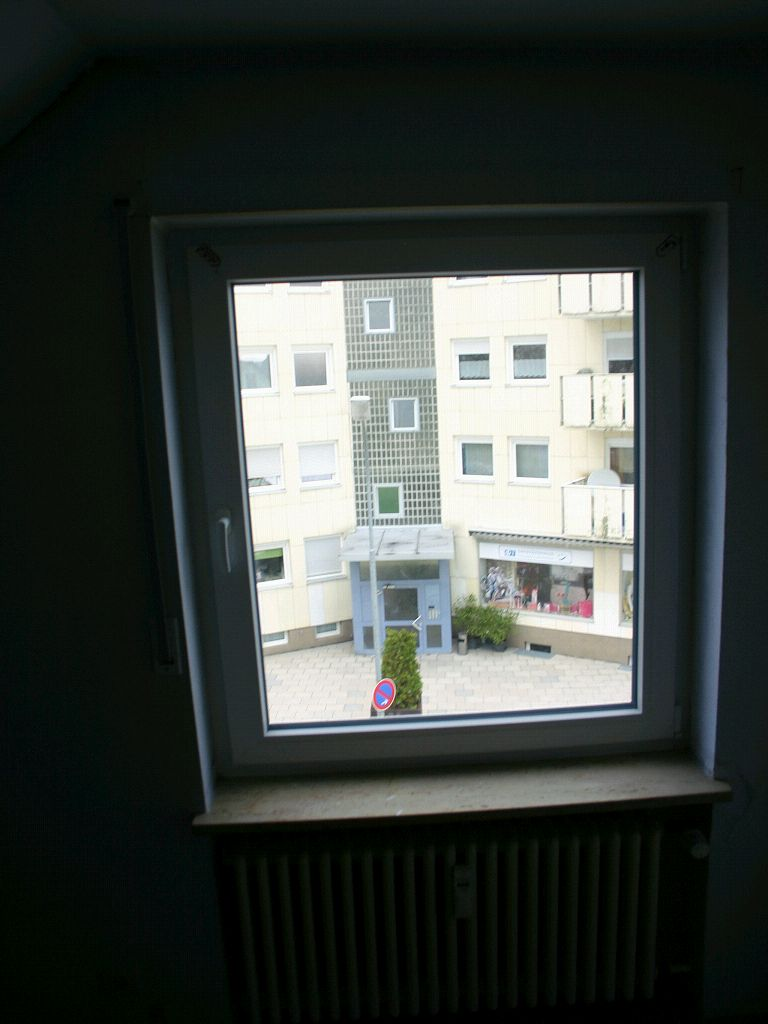windows: (160, 219, 710, 786)
